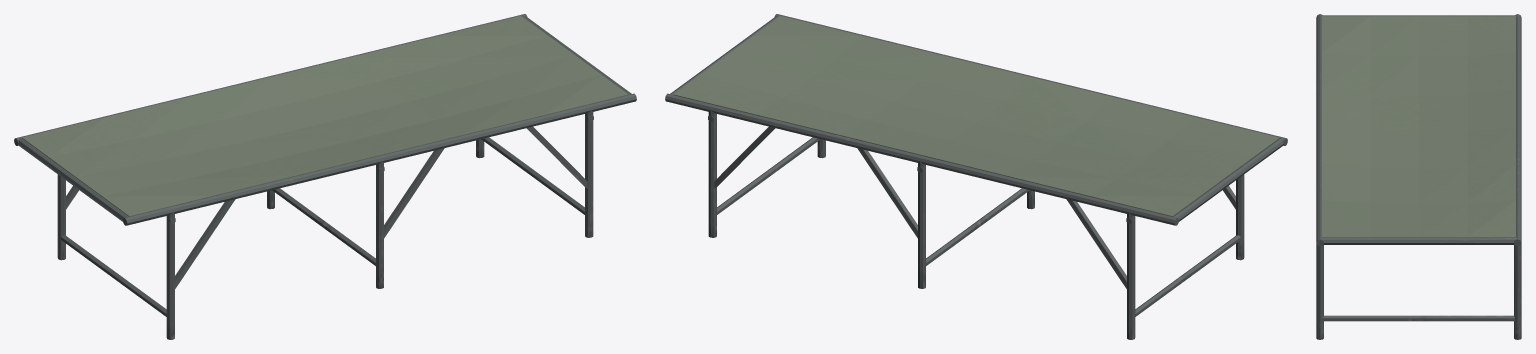
File: forest_ranger_shelter_props_cot.glb
3 renders of one model, left to right at view 1: azimuth 30°, elevation 25°; view 2: azimuth 150°, elevation 25°; view 3: azimuth 270°, elevation 25°, orthographic. The views are drawn at different scales.
Parts seen in each view (by area): view 1: RangerPropsCot; view 2: RangerPropsCot; view 3: RangerPropsCot.
Part boxes in pixels (box(x1,y1,x2,y2)): RangerPropsCot: box(14, 14, 636, 339); RangerPropsCot: box(665, 14, 1287, 339); RangerPropsCot: box(1316, 14, 1521, 339).
Size of what is drawn, in the model's own units: 1.95 by 0.48 by 0.75.
1 material, 1 textured.
